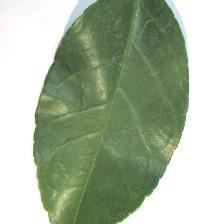healthy: (34, 1, 191, 224)
